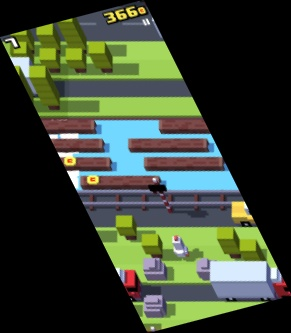car: (232, 199, 272, 227)
coin: (63, 156, 77, 168), (85, 175, 101, 185)
duck: (172, 236, 191, 262)
light off: (148, 179, 174, 212)
log: (144, 155, 224, 170), (127, 138, 210, 152), (79, 175, 161, 188), (159, 118, 223, 134), (34, 117, 97, 133), (46, 138, 105, 152), (57, 156, 111, 171)
rail: (73, 187, 252, 212)
rock: (142, 258, 169, 281), (142, 295, 167, 318), (197, 259, 220, 281)
tree: (28, 66, 61, 111), (3, 66, 35, 110), (59, 11, 88, 51), (215, 226, 243, 259), (36, 22, 62, 53), (10, 40, 37, 68), (88, 41, 112, 72), (11, 22, 36, 50), (39, 48, 62, 75), (65, 47, 87, 73), (141, 234, 164, 258), (115, 215, 137, 239)
truck: (210, 260, 291, 302), (81, 268, 143, 304), (1, 56, 47, 96)
water: (37, 116, 242, 191)
